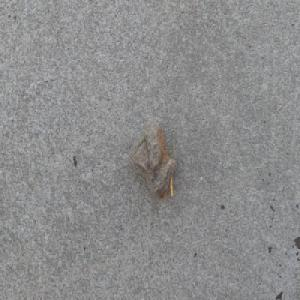Rock: (128, 118, 176, 200)
